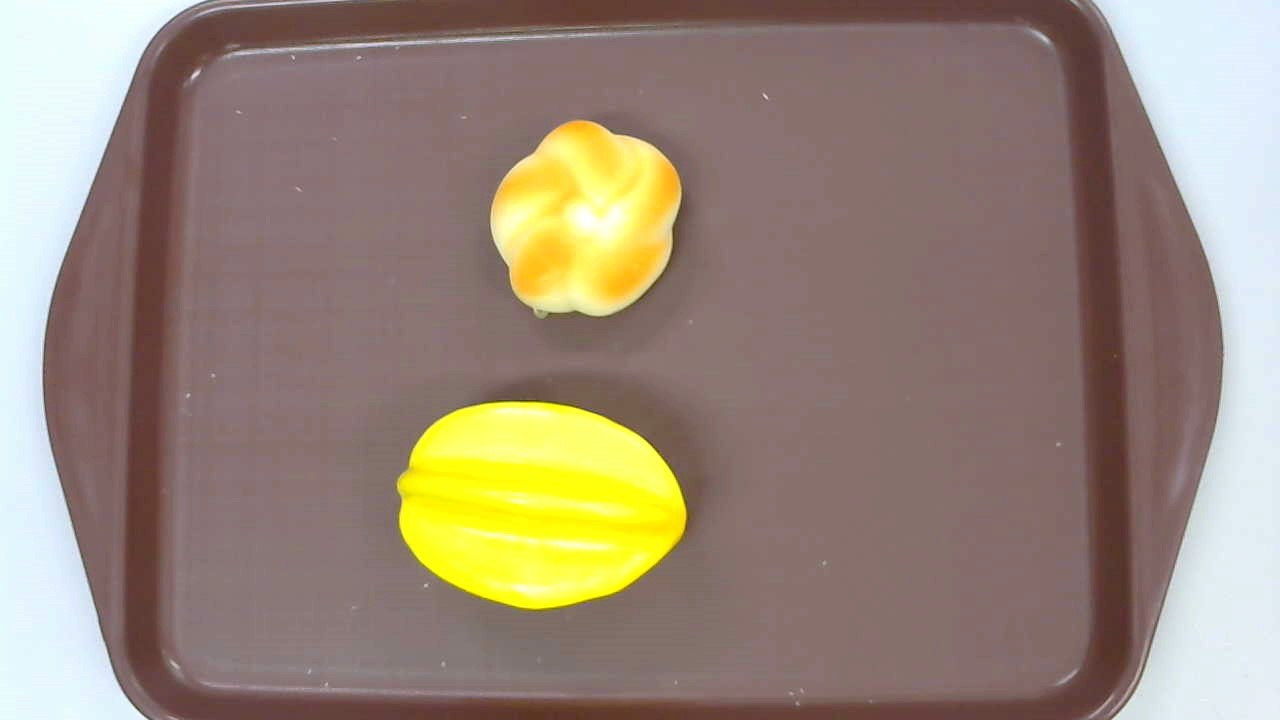star fruit: (395, 399, 687, 612)
twist bread: (489, 119, 682, 319)
